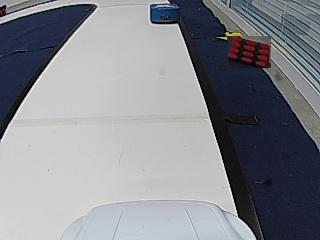prop: (150, 4, 180, 24)
